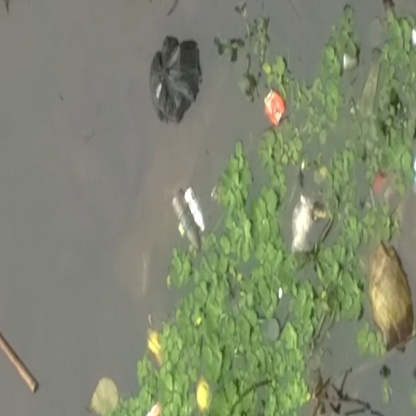plastic-bag: (140, 35, 203, 133)
